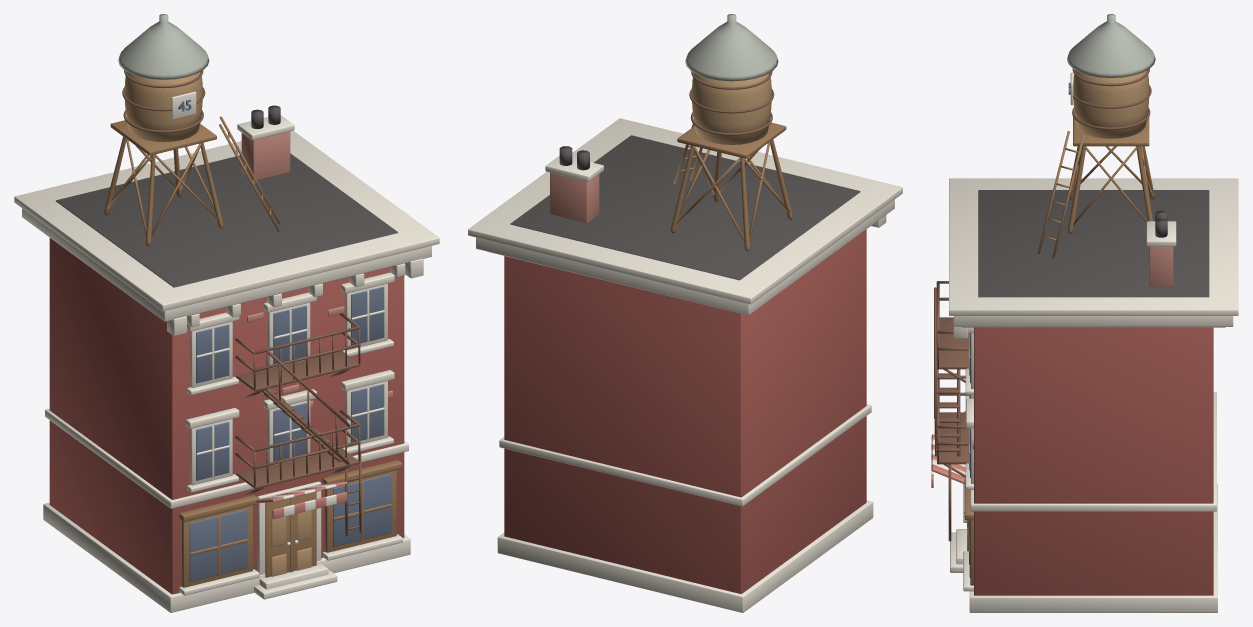
File: edificio_01.glb
3 renders of one model, left to right at view 1: azimuth 30°, elevation 25°; view 2: azimuth 150°, elevation 25°; view 3: azimuth 270°, elevation 25°, orthographic. The views are drawn at different scales.
Parts seen in each view (by area): view 1: corpo, tetto, cornicione_corona, zoccolo, cornicione_fascia, serb_tetto, serb_botte, vetrina_vetro_L, vetrina_vetro_R, fascia_pt, comignolo_fusto, se_b2_pianale (+27 smaller); view 2: corpo, tetto, cornicione_corona, zoccolo, cornicione_fascia, serb_botte, serb_tetto, fascia_pt, comignolo_fusto, serb_piattaforma, comignolo_cappello; view 3: corpo, tetto, cornicione_corona, zoccolo, serb_botte, serb_tetto, cornicione_fascia, fascia_pt, se_b2_pianale, comignolo_fusto, serb_piattaforma, se_b1_pianale (+3 smaller).
Part boxes in pixels (box(x1,y1,x2,y2)): corpo: box(49, 238, 404, 594); tetto: box(56, 153, 398, 287); cornicione_corona: box(14, 130, 439, 311); zoccolo: box(43, 502, 410, 612); cornicione_fascia: box(22, 208, 431, 321); serb_tetto: box(118, 14, 209, 79); serb_botte: box(124, 71, 202, 142); vetrina_vetro_L: box(189, 509, 247, 581); vetrina_vetro_R: box(333, 474, 391, 546); fascia_pt: box(45, 408, 408, 508); comignolo_fusto: box(241, 131, 290, 180); se_b2_pianale: box(236, 351, 359, 391); corpo: box(504, 229, 866, 593); tetto: box(510, 135, 860, 280); cornicione_corona: box(468, 118, 902, 304); zoccolo: box(497, 500, 873, 612); cornicione_fascia: box(476, 199, 894, 315); serb_botte: box(691, 73, 771, 144); serb_tetto: box(685, 14, 778, 81); fascia_pt: box(499, 404, 871, 506); comignolo_fusto: box(550, 172, 599, 223); serb_piattaforma: box(677, 122, 786, 158); comignolo_cappello: box(545, 156, 603, 181); corpo: box(974, 327, 1213, 595); tetto: box(978, 190, 1209, 297); cornicione_corona: box(949, 178, 1238, 315); zoccolo: box(969, 483, 1217, 612); serb_botte: box(1073, 70, 1149, 138); serb_tetto: box(1067, 14, 1155, 77); cornicione_fascia: box(954, 316, 1233, 326); fascia_pt: box(970, 392, 1216, 511); se_b2_pianale: box(937, 317, 968, 369); comignolo_fusto: box(1149, 246, 1173, 286); serb_piattaforma: box(1073, 112, 1149, 146); se_b1_pianale: box(937, 412, 968, 464).
Bounding box in the file's own units: 7.15 × 13.04 × 7.06.
